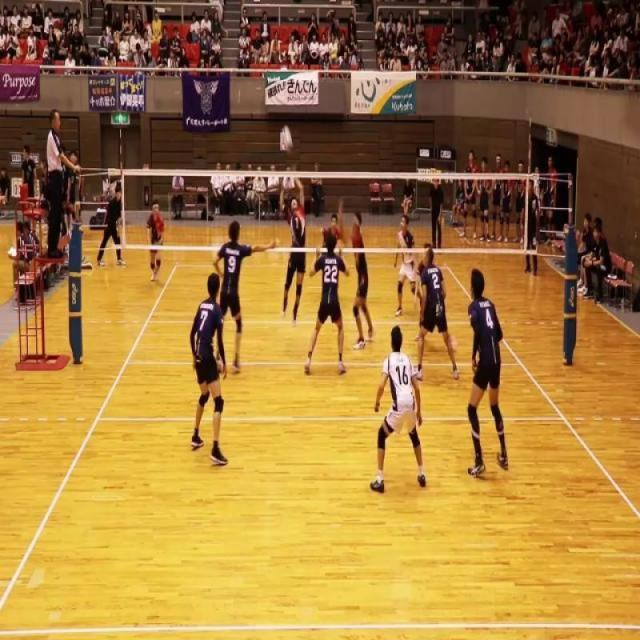volleyball: (281, 124, 294, 149)
